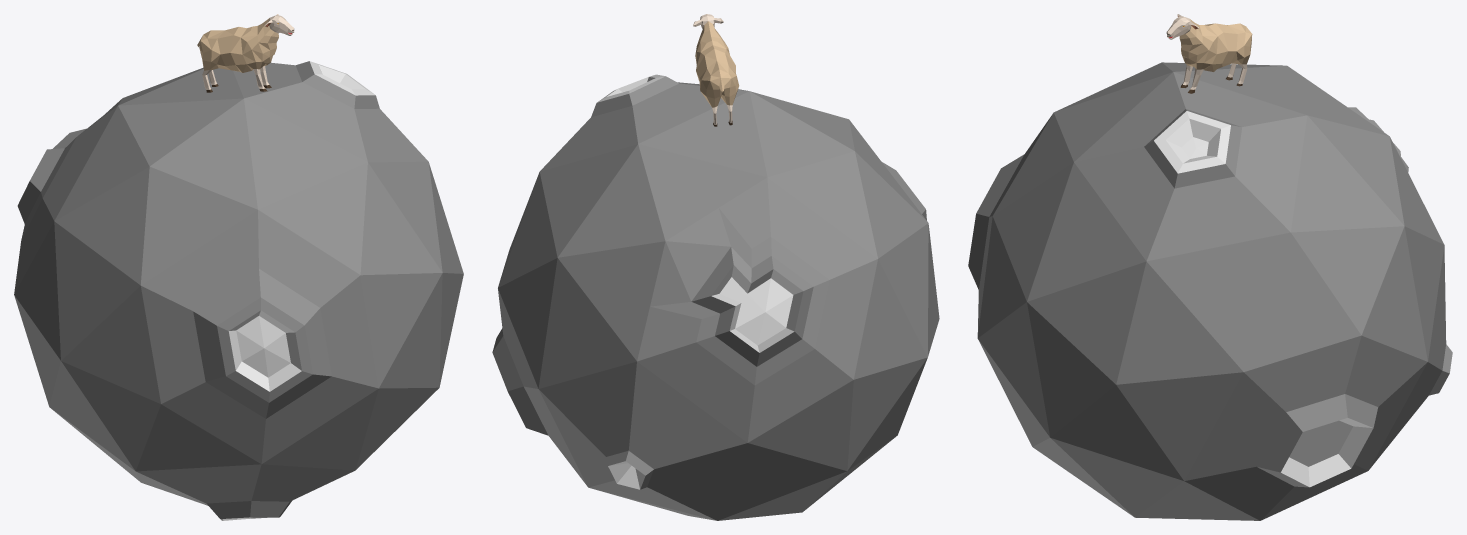
The model's file is sheep.glb.
3 views of the same model, side by side, from view 1: azimuth 30°, elevation 25°; view 2: azimuth 150°, elevation 25°; view 3: azimuth 270°, elevation 25° (orthographic). The views are drawn at different scales.
Visible parts, largest first — view 1: moon, sheep-white; view 2: moon, sheep-white; view 3: moon, sheep-white.
Part boxes in pixels (x1,y1,x2,y2): moon: [14, 61, 463, 520]; sheep-white: [197, 14, 294, 92]; moon: [492, 74, 939, 520]; sheep-white: [693, 14, 739, 126]; moon: [968, 62, 1452, 520]; sheep-white: [1166, 14, 1252, 93].
Size of the model in its own units: 9.87 by 11.64 by 10.15.
3 materials, 1 textured.
